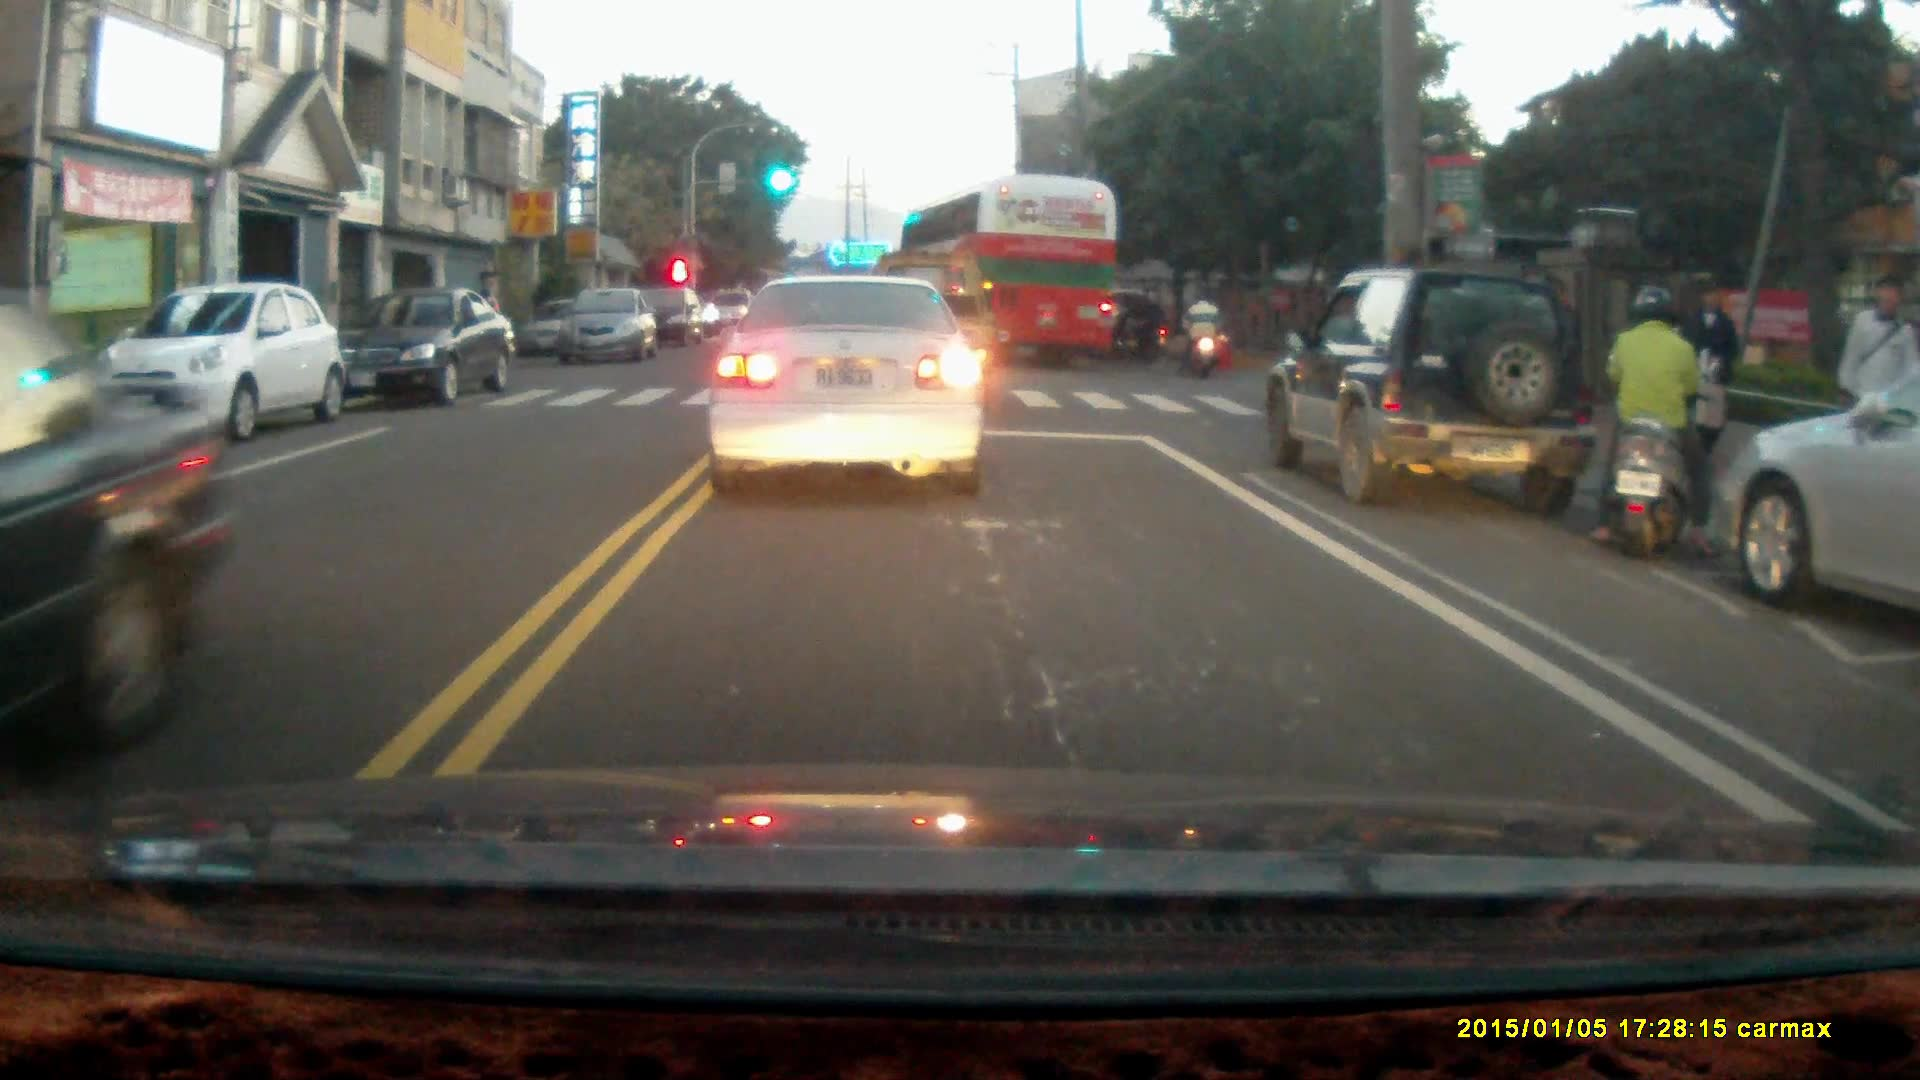pedestrian: (1839, 272, 1919, 461), (1683, 278, 1742, 473)
rider: (1587, 287, 1724, 558), (1104, 291, 1172, 367), (1180, 287, 1225, 378)
vehicle: (2, 291, 232, 762), (1264, 271, 1607, 516), (701, 272, 990, 500), (1708, 358, 1920, 625), (892, 173, 1123, 376), (94, 282, 344, 442), (333, 287, 519, 408), (556, 286, 653, 370), (627, 286, 713, 354)
